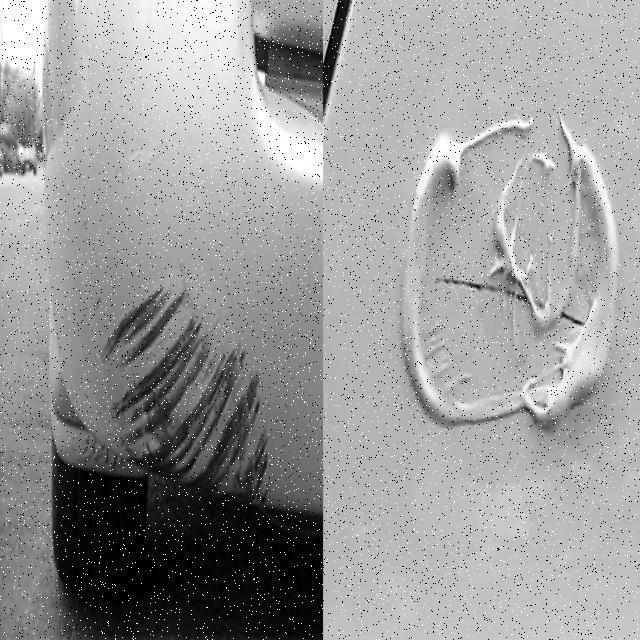rear-bumper-dent: (35, 6, 314, 550)
